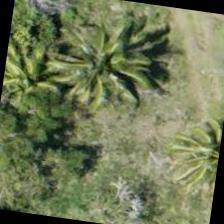Kelapa_Sawit: (56, 10, 158, 112), (0, 18, 85, 118), (158, 104, 223, 203)
